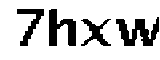7: (11, 4, 46, 50)
h: (46, 6, 78, 52)
w: (114, 12, 160, 50)
x: (78, 13, 114, 52)
